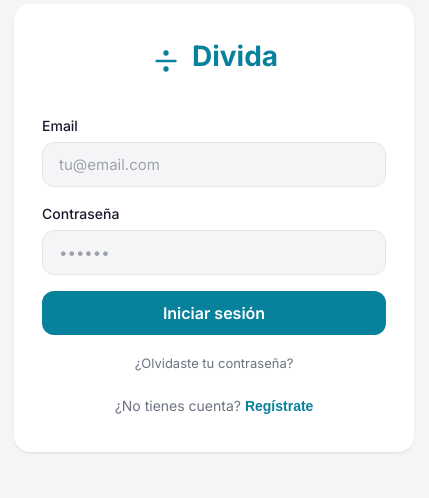
Scenario: LoginPage › shows error on failed login
Type "test@test.com" into the field labelled "Email".
click(214, 165); type("test@test.com")  # box [42,142,386,187]
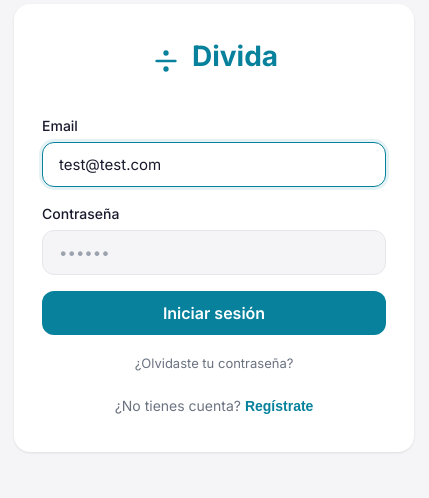
Type "wrong" into the password field labelled "Contraseña".
click(214, 253); type("wrong")  # box [42,230,386,275]
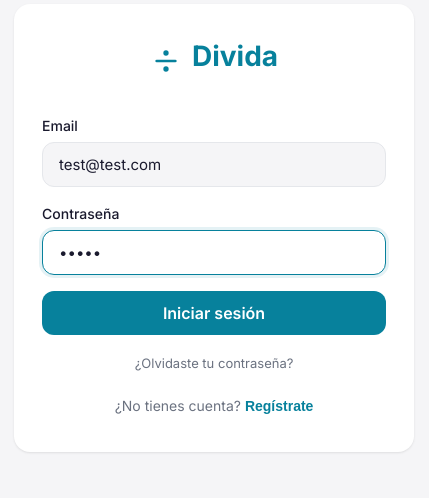
Click the button "Iniciar sesión".
click(214, 313)  # box [42,291,386,335]
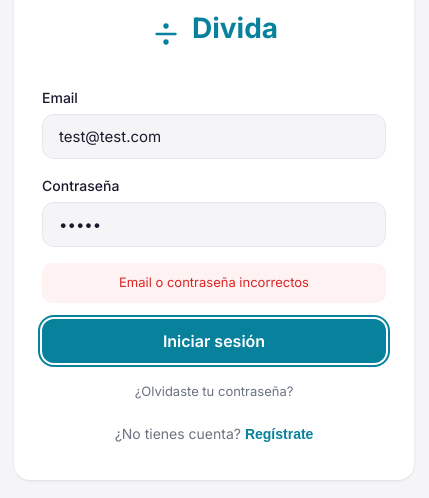
expect the message reads "Email o contraseña incorrectos": met, box [119,274,309,290]
